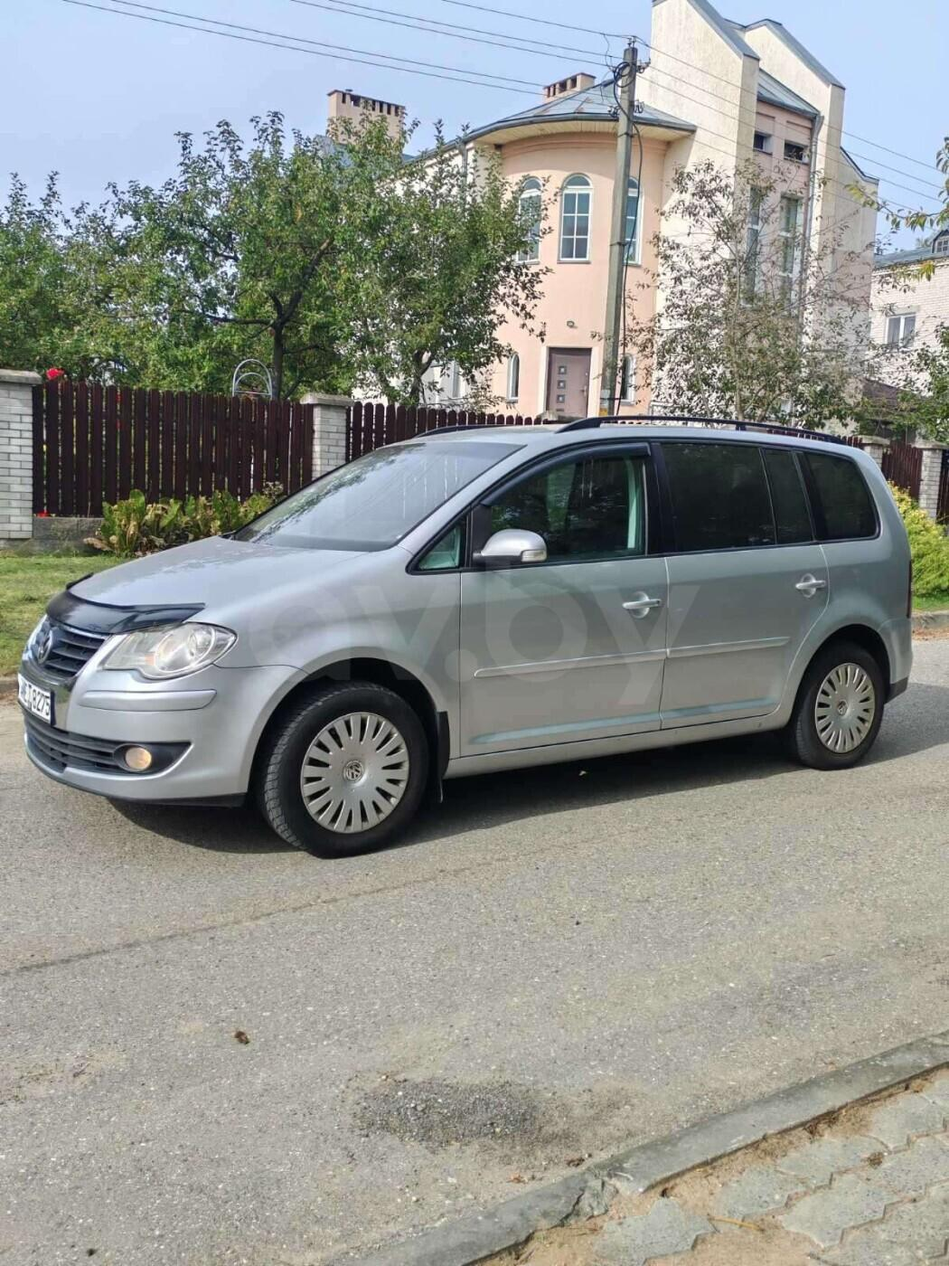Touran_2006-2010: (16, 405, 920, 845)
